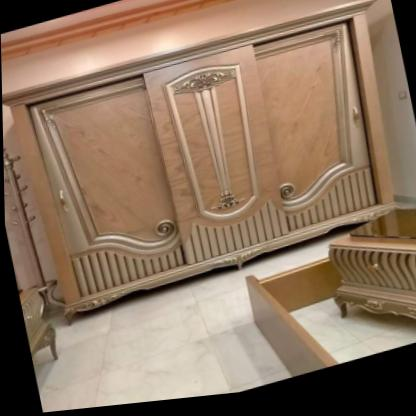Ceramic floor: (36, 243, 335, 413)
Closet: (2, 6, 393, 317)
